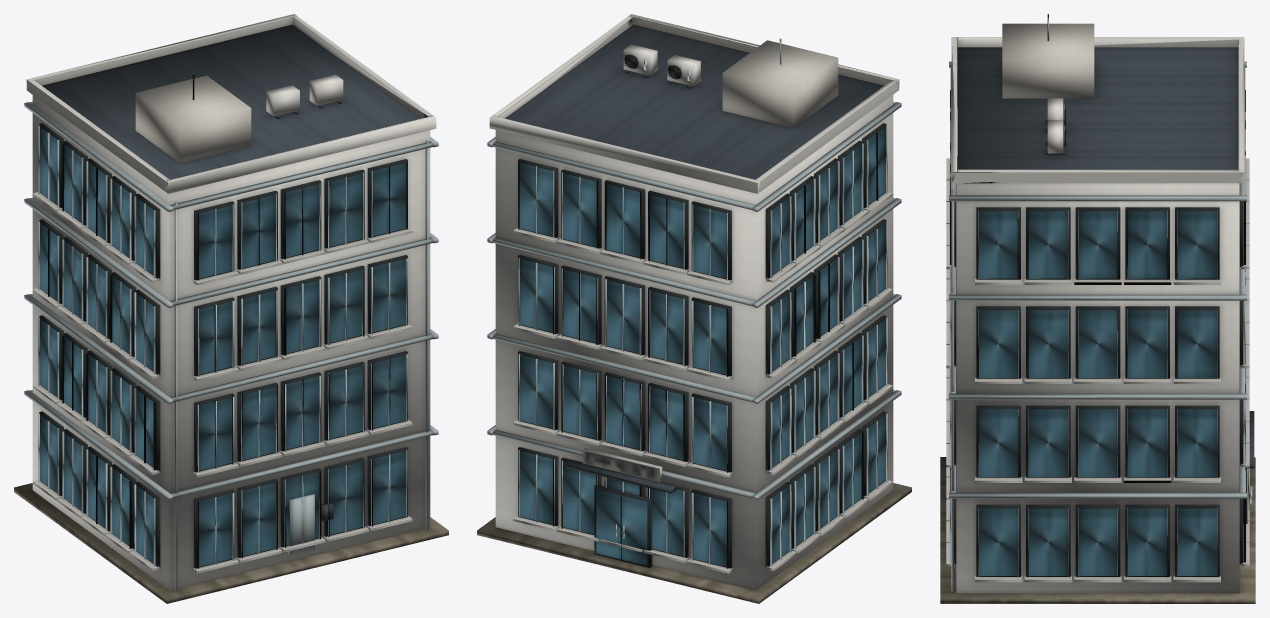
File: office_002.obj
The picture shows the model from 3 angles, left to right: view 1: azimuth 30°, elevation 25°; view 2: azimuth 150°, elevation 25°; view 3: azimuth 270°, elevation 25°; orthographic projection. The views are drawn at different scales.
Parts seen in each view (by area): view 1: office_002; view 2: office_002; view 3: office_002.
Part boxes in pixels (bbox=[...]): office_002: bbox=[14, 14, 448, 603]; office_002: bbox=[477, 14, 911, 603]; office_002: bbox=[940, 14, 1255, 603].
Bounding box in the file's own units: 9.1 × 14.57 × 8.54.
Materials: 1 (1 with a texture image).
